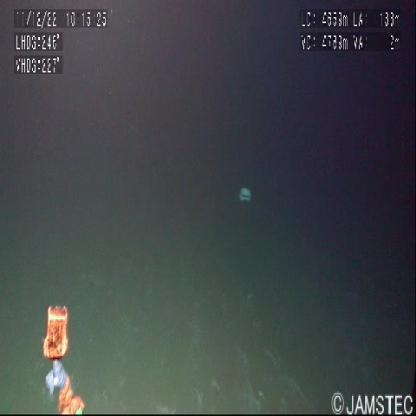Rác: (237, 188, 253, 204)
